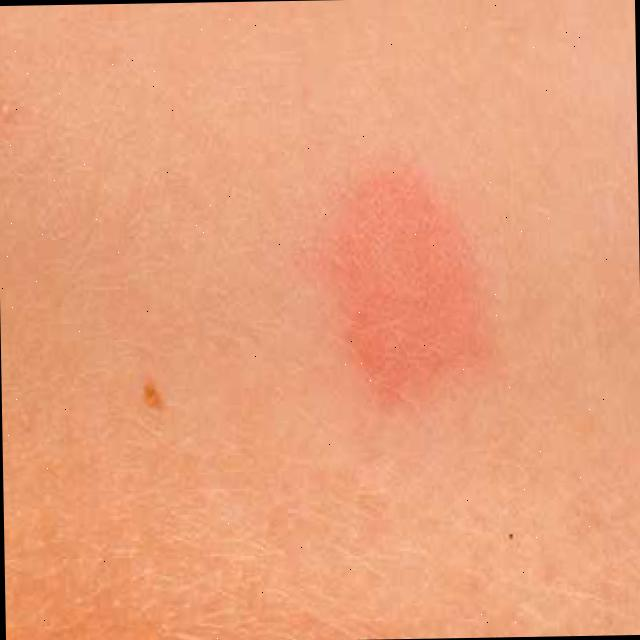sinek: (325, 183, 475, 389)
